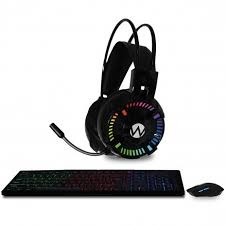keyboard: (0, 159, 185, 212)
mouse: (185, 167, 223, 211)
